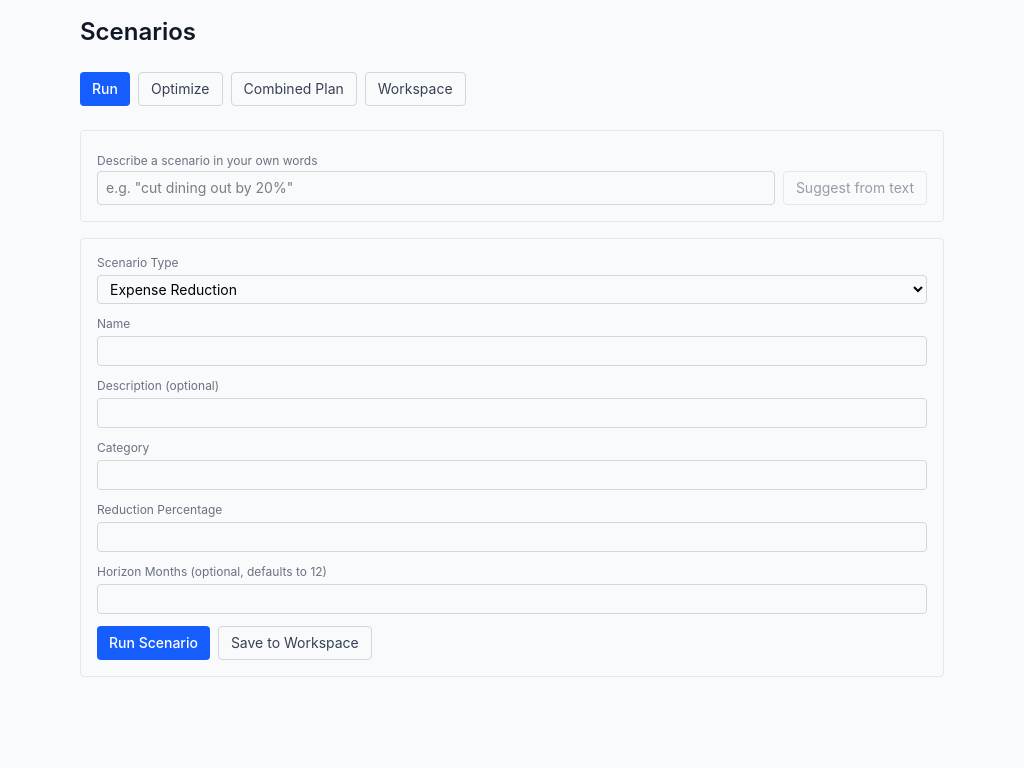
ScenariosPage › submits an empty optimize form as {} and renders the ranked result
This screenshot has width=1024, height=768.
Click the button "Optimize" at (180, 89), box [138, 72, 222, 106]
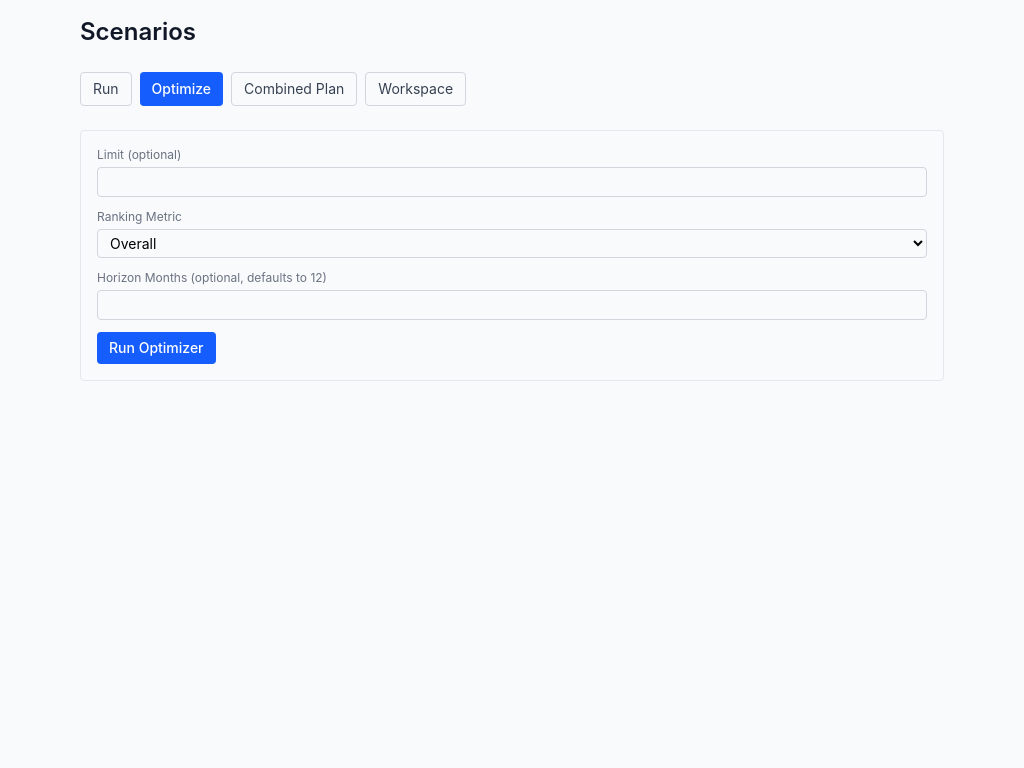
Click the button "Run Optimizer" at (156, 348), box [97, 332, 216, 364]
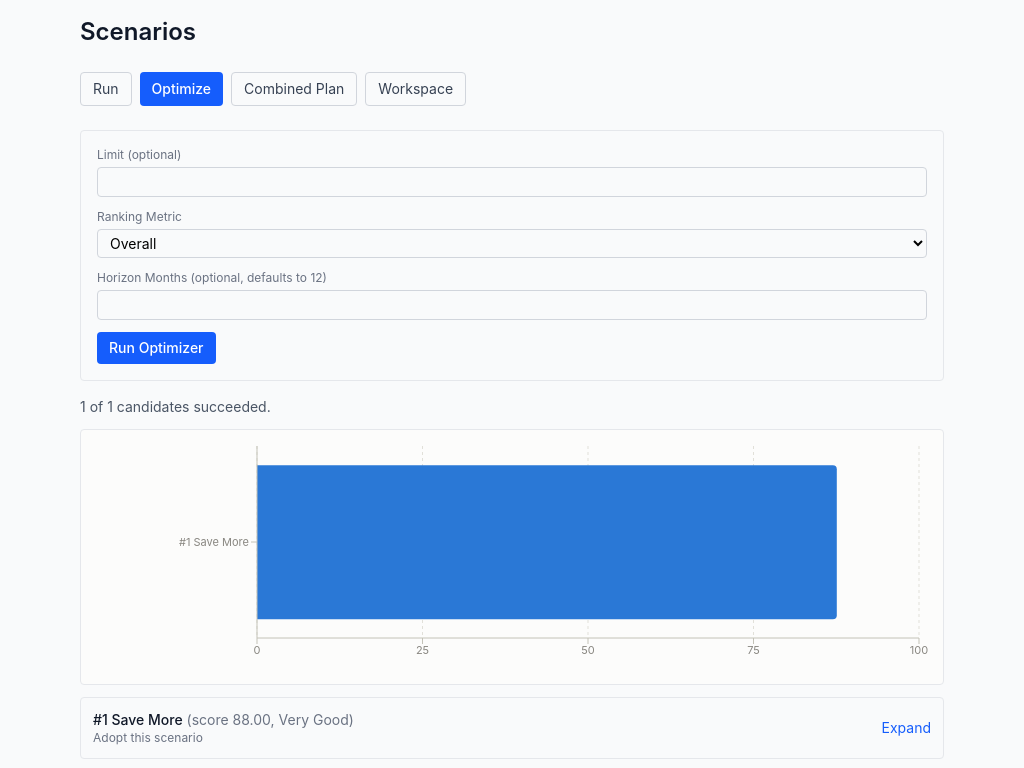
Expected: the text "#1 Save More" is shown, [93, 711, 183, 728]
